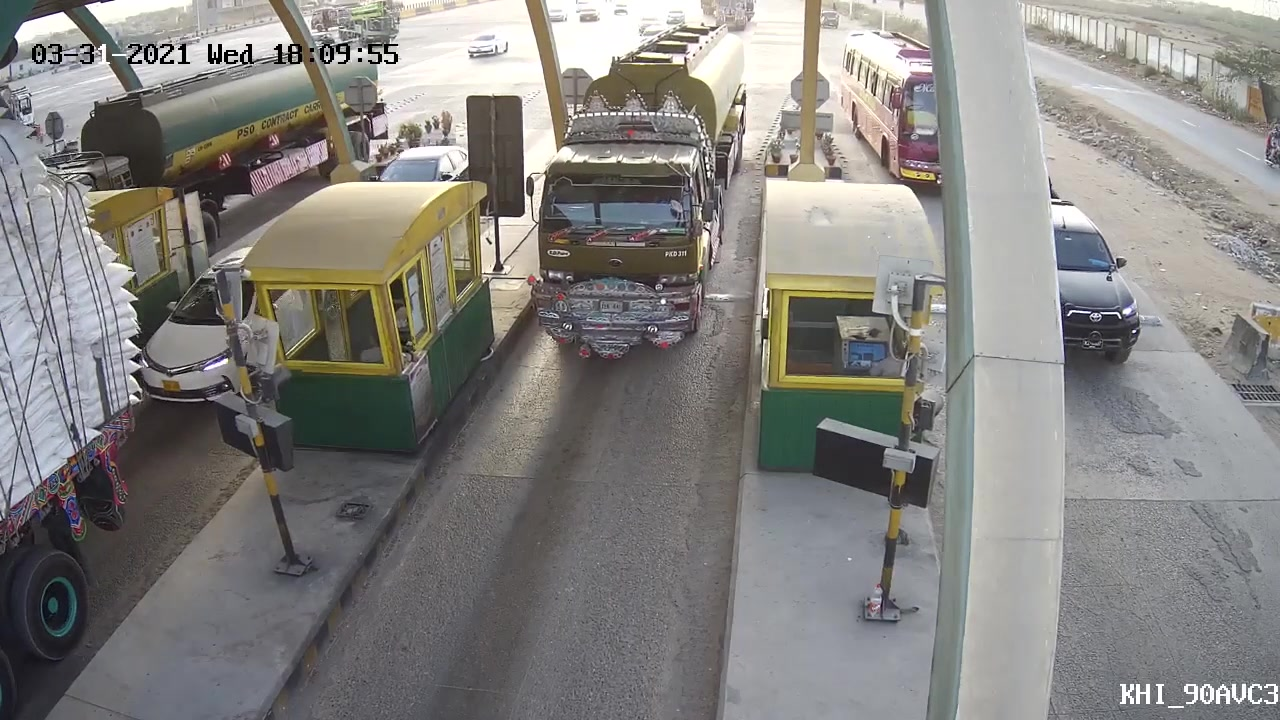F6: (521, 24, 751, 362)
